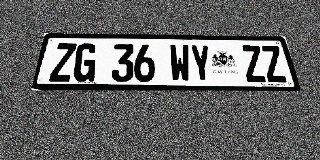3: (111, 44, 134, 82)
6: (134, 44, 155, 82)
G: (72, 43, 98, 82)
W: (169, 44, 192, 82)
Y: (189, 45, 213, 82)
Z: (49, 43, 77, 82), (260, 46, 288, 82), (240, 45, 267, 82)
